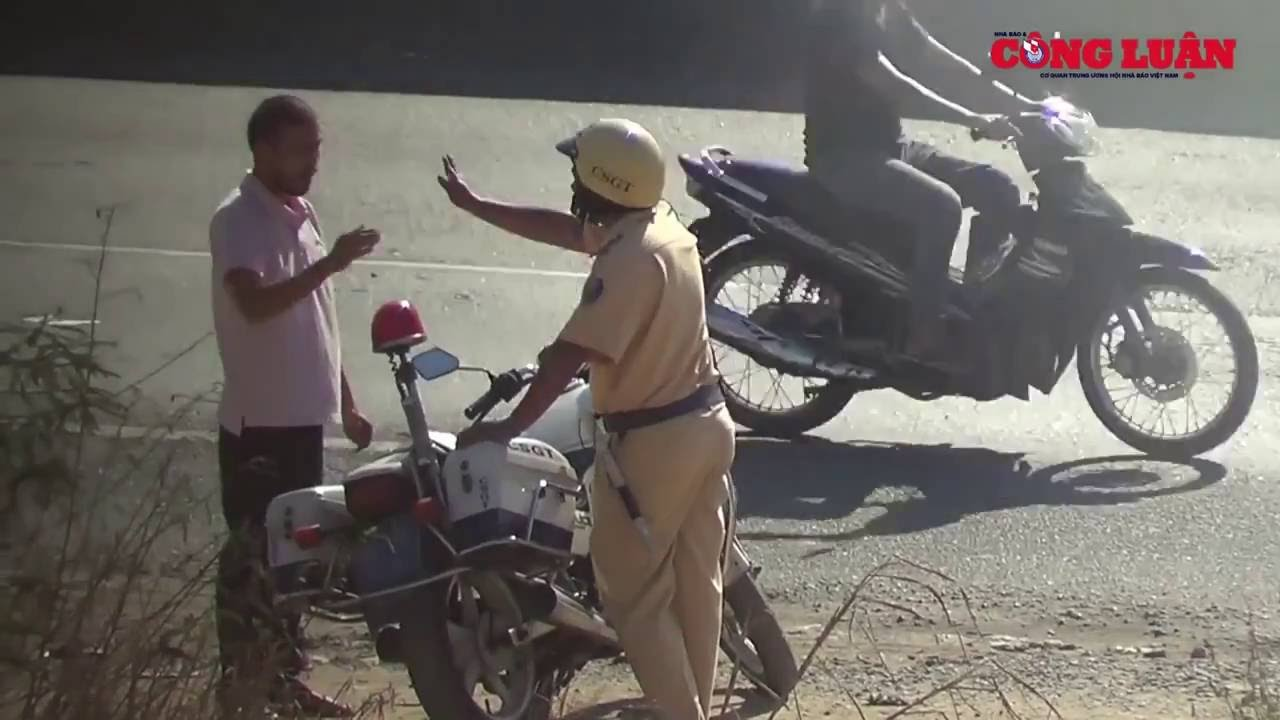police: (436, 119, 755, 720)
